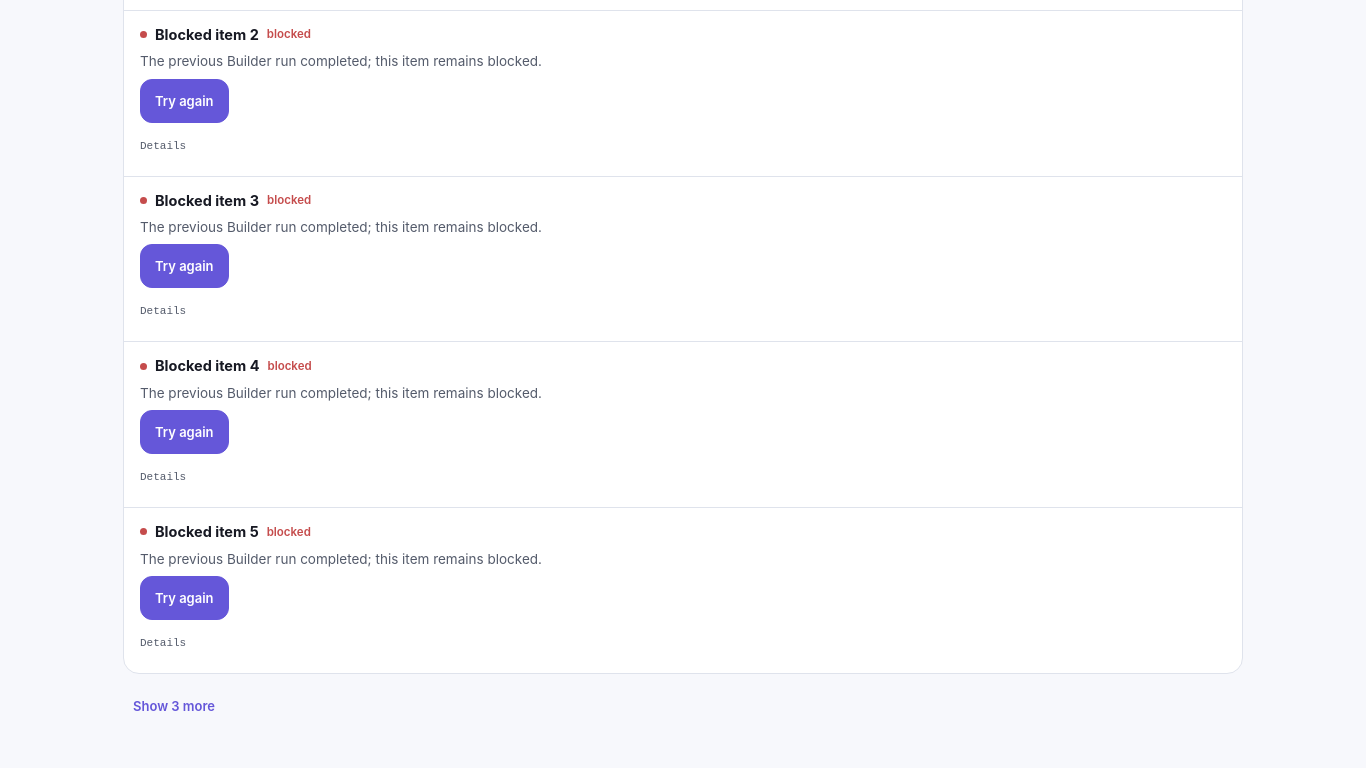
Test: WorkView visual hierarchy › bounds each status group to the five most relevant rows until expanded
Expected: the text "Blocked item 6" is not shown
Click the button "Show 3 more". click: x=174, y=706
box: left=123, top=684, right=225, bottom=728
(page scrolled)
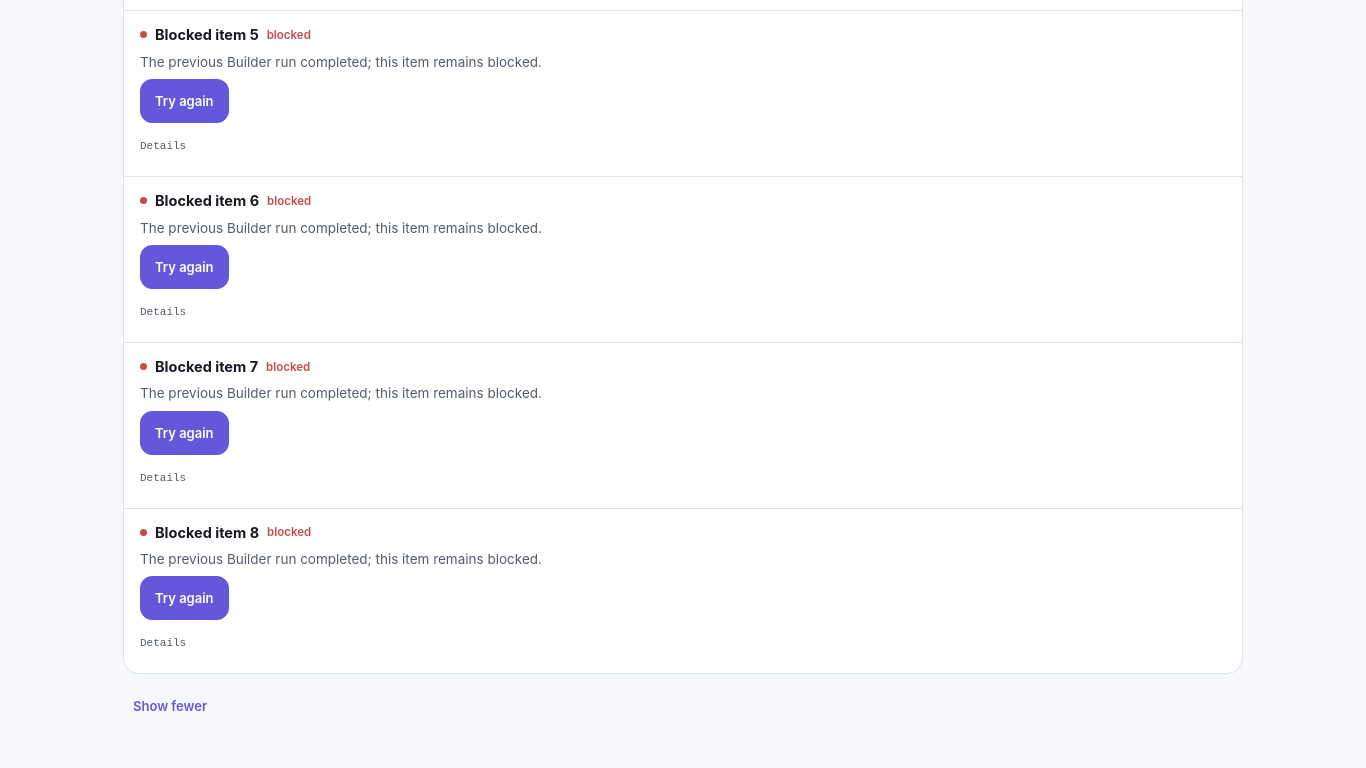
Expected: the number of elements with test id "work-row" is 8
Expected: the text "Blocked item 8" is shown, left=155, top=523, right=259, bottom=542
